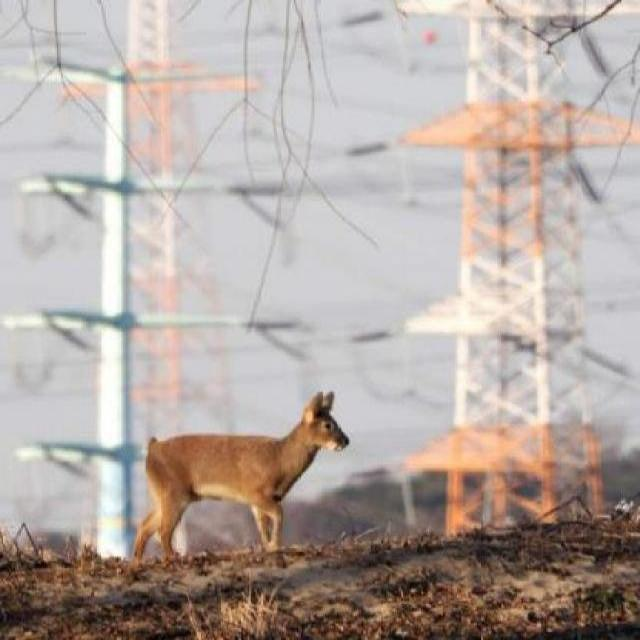deer: (142, 387, 356, 562)
